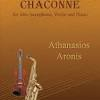Saxophone: (23, 50, 45, 100)
